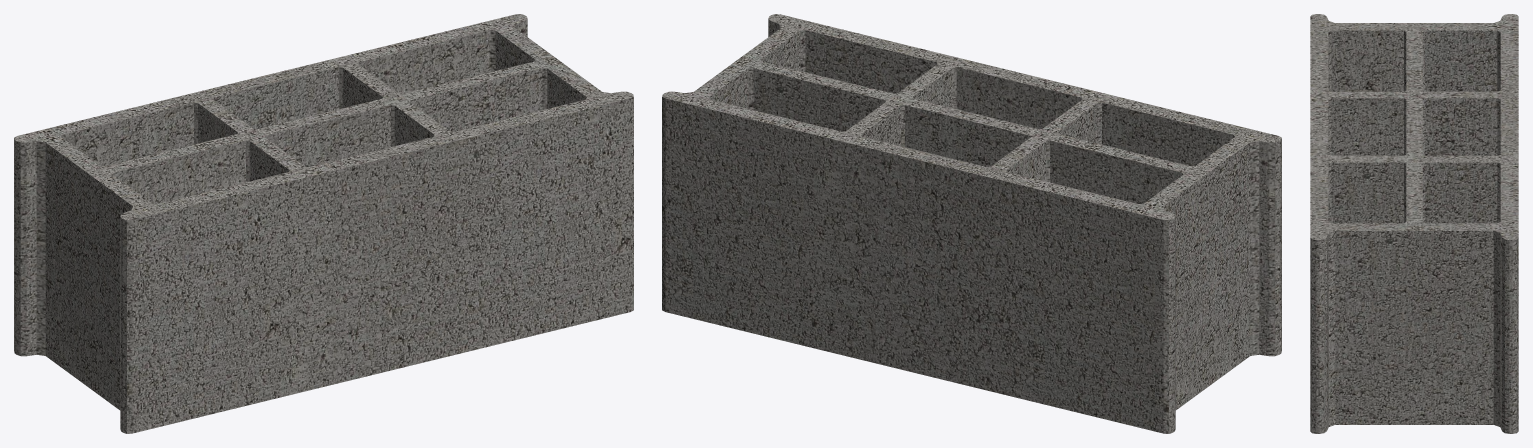
The model's file is parpaing.obj.
3 renders of one model, left to right at view 1: azimuth 30°, elevation 25°; view 2: azimuth 150°, elevation 25°; view 3: azimuth 270°, elevation 25°, orthographic. The views are drawn at different scales.
Visible parts, largest first — view 1: Cube_Cube.001; view 2: Cube_Cube.001; view 3: Cube_Cube.001.
Part boxes in pixels (<box>): Cube_Cube.001: <box>14,14,633,433</box>; Cube_Cube.001: <box>662,14,1281,433</box>; Cube_Cube.001: <box>1310,14,1518,433</box>.
Size of the model in its own units: 50 by 20 by 19.5.
